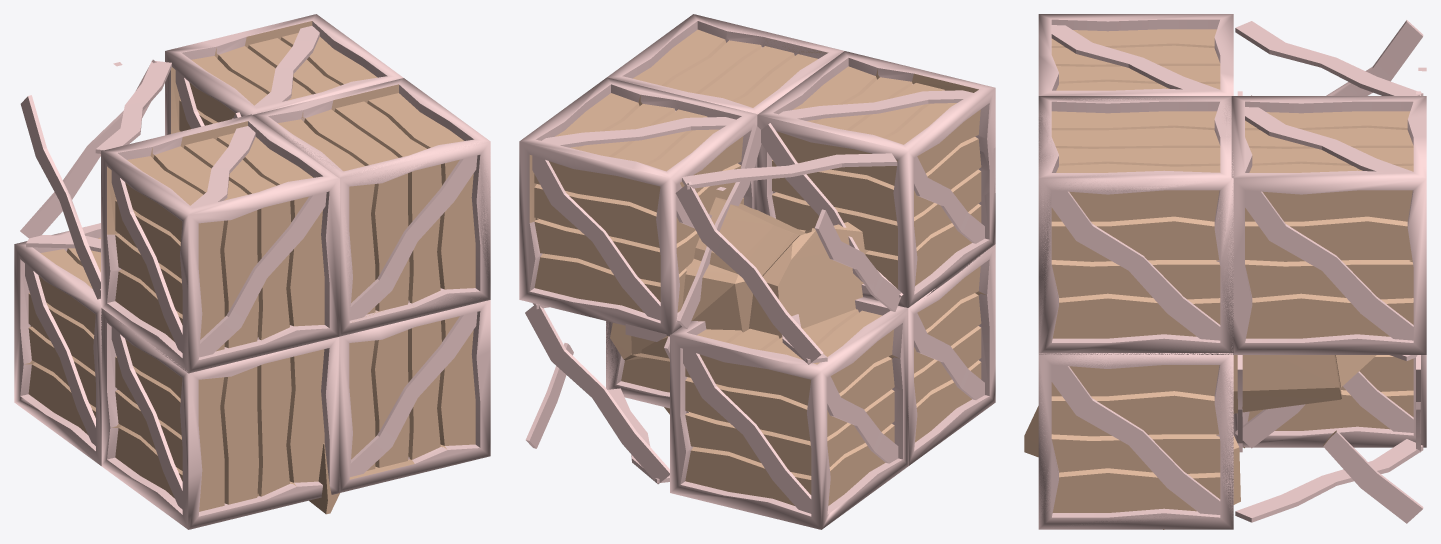
File: ShatteredBox.fbx
3 renders of one model, left to right at view 1: azimuth 30°, elevation 25°; view 2: azimuth 150°, elevation 25°; view 3: azimuth 270°, elevation 25°, orthographic. The views are drawn at different scales.
Parts seen in each view (by area): view 1: Props_6_cell.009, Props_6_cell.054, Props_6_cell.095, Props_6_cell.027, Props_6_cell.107, Props_6_cell.068, Props_6_cell.055, Props_6_cell.057, Props_6_cell.004, Props_6_cell.080, Props_6_cell.076, Props_6_cell.026 (+13 smaller); view 2: Props_6_cell.068, Props_6_cell.055, Props_6_cell.009, Props_6_cell.054, Props_6_cell.107, Props_6_cell.029, Props_6_cell.063, Props_6_cell.075, Props_6_cell.116, Props_6_cell.033, Props_6_cell.004, Props_6_cell.105 (+17 smaller); view 3: Props_6_cell.068, Props_6_cell.027, Props_6_cell.004, Props_6_cell.057, Props_6_cell.107, Props_6_cell.095, Props_6_cell.009, Props_6_cell.055, Props_6_cell.085, Props_6_cell.047, Props_6_cell.127, Props_6_cell.017 (+14 smaller).
Boxes of the visible parts, left/top/right/bottom form: Props_6_cell.009: left=101, top=114, right=339, bottom=373; Props_6_cell.054: left=101, top=308, right=339, bottom=529; Props_6_cell.095: left=268, top=84, right=490, bottom=335; Props_6_cell.027: left=271, top=85, right=490, bottom=336; Props_6_cell.107: left=253, top=78, right=490, bottom=336; Props_6_cell.068: left=165, top=14, right=403, bottom=135; Props_6_cell.055: left=14, top=223, right=101, bottom=465; Props_6_cell.057: left=349, top=316, right=477, bottom=475; Props_6_cell.004: left=339, top=300, right=490, bottom=492; Props_6_cell.080: left=349, top=155, right=477, bottom=320; Props_6_cell.076: left=349, top=312, right=477, bottom=476; Props_6_cell.026: left=199, top=192, right=326, bottom=357; Props_6_cell.068: left=519, top=77, right=757, bottom=361; Props_6_cell.055: left=670, top=297, right=908, bottom=529; Props_6_cell.009: left=757, top=51, right=995, bottom=307; Props_6_cell.054: left=805, top=228, right=995, bottom=465; Props_6_cell.107: left=607, top=14, right=844, bottom=114; Props_6_cell.029: left=749, top=222, right=868, bottom=363; Props_6_cell.063: left=676, top=125, right=806, bottom=328; Props_6_cell.075: left=525, top=304, right=669, bottom=483; Props_6_cell.116: left=683, top=349, right=811, bottom=513; Props_6_cell.033: left=532, top=155, right=660, bottom=320; Props_6_cell.004: left=606, top=321, right=669, bottom=407; Props_6_cell.105: left=682, top=153, right=897, bottom=189; Props_6_cell.068: left=1231, top=96, right=1426, bottom=387; Props_6_cell.027: left=1038, top=101, right=1233, bottom=354; Props_6_cell.004: left=1038, top=353, right=1341, bottom=529; Props_6_cell.057: left=1038, top=353, right=1233, bottom=529; Props_6_cell.107: left=1038, top=96, right=1233, bottom=351; Props_6_cell.095: left=1038, top=96, right=1233, bottom=354; Props_6_cell.009: left=1038, top=14, right=1233, bottom=95; Props_6_cell.055: left=1233, top=355, right=1426, bottom=447; Props_6_cell.085: left=1051, top=365, right=1220, bottom=514; Props_6_cell.047: left=1051, top=190, right=1220, bottom=340; Props_6_cell.127: left=1245, top=190, right=1413, bottom=340; Props_6_cell.017: left=1323, top=430, right=1423, bottom=523.
Size of the model in its own units: 135 by 140 by 140.
